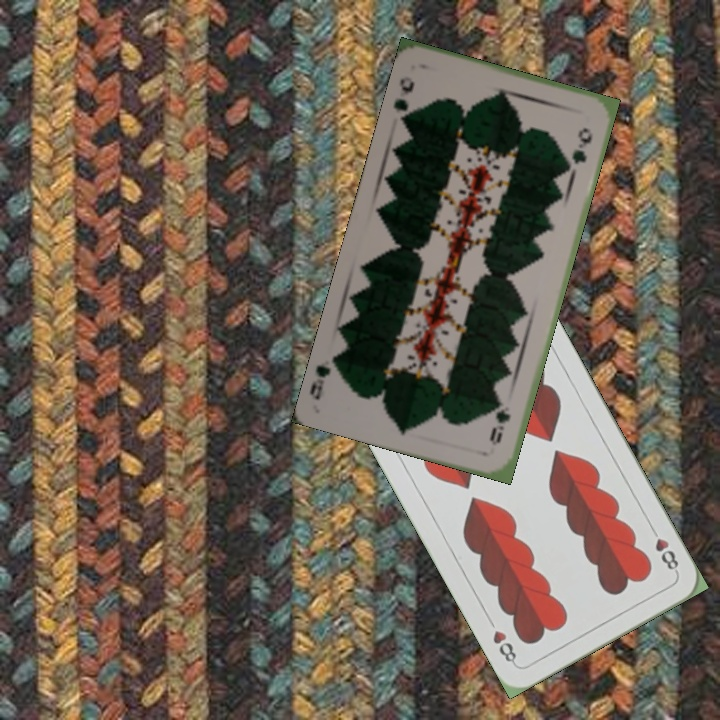G9: (389, 72, 417, 125), (486, 398, 513, 448)
H8: (646, 522, 682, 576)
